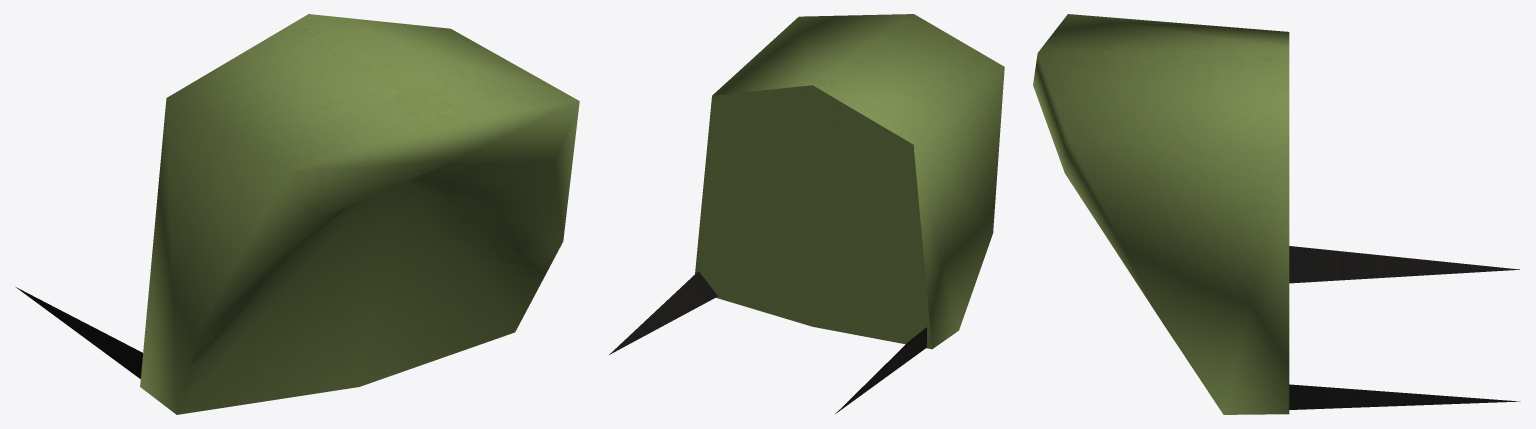
The model's file is nt_2020_chair_yellowgreen_LOD2.obj.
3 views of the same model, side by side, from view 1: azimuth 30°, elevation 25°; view 2: azimuth 150°, elevation 25°; view 3: azimuth 270°, elevation 25° (orthographic). The views are drawn at different scales.
Visible parts, largest first — view 1: mtl_nt_2020_chair5_yellowgreen; view 2: mtl_nt_2020_chair5_yellowgreen; view 3: mtl_nt_2020_chair5_yellowgreen.
Boxes of the visible parts, x1,y1,x2,y2 form: mtl_nt_2020_chair5_yellowgreen: (16,14,579,414); mtl_nt_2020_chair5_yellowgreen: (609,14,1004,413); mtl_nt_2020_chair5_yellowgreen: (1033,14,1520,414).
Size of the model in its own units: 68.9 by 61.89 by 91.29.
